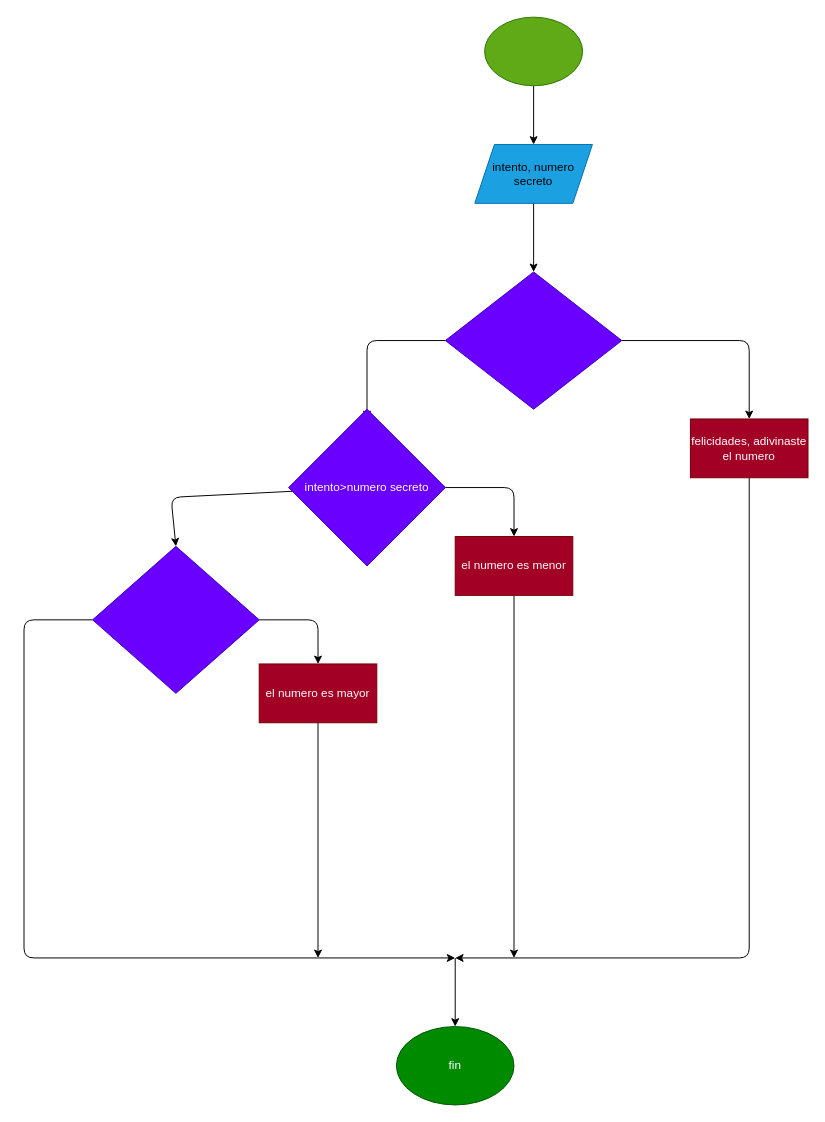
Image size: 825x1122. Some labels were removed from this diagram. The centre of each missing label's shape, as x and y in pixels:
INICIO: the point at 533,51
intento<numero secreto: the point at 175,619
intento==numero secreto: the point at 533,340
